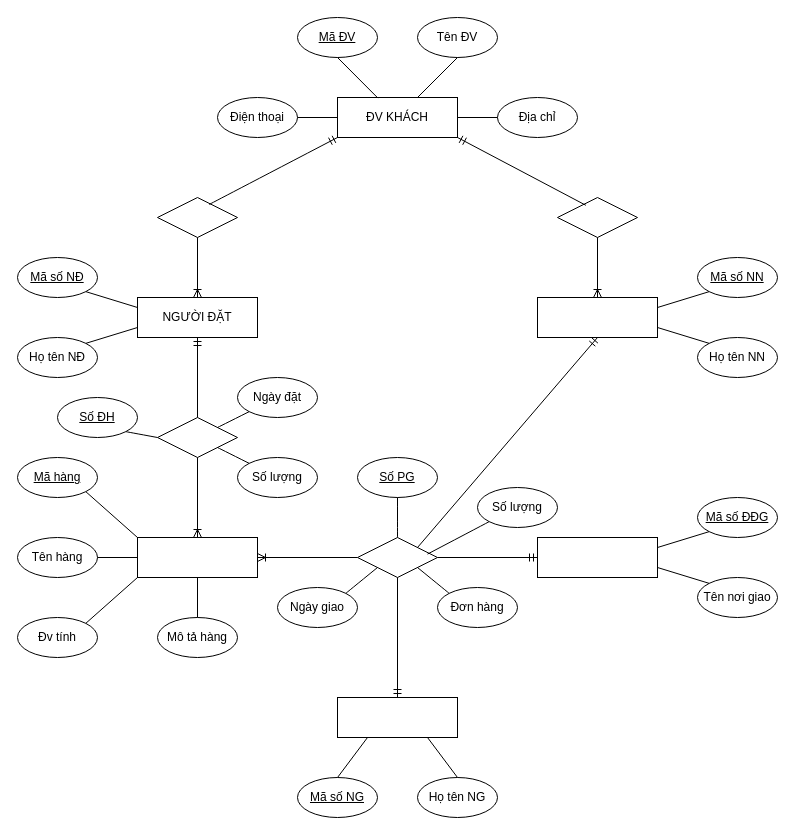
Image size: 795x835. Some labels were removed from this diagram. The centre of each missing label's shape, as x and y in pixels:
Giao: the point at 397,557
HÀNG: the point at 197,557
NGƯỜI GIAO: the point at 397,717
NGƯỜI NHẬN: the point at 597,317
NƠI GIAO: the point at 597,557
Thuộc tính 1: the point at 197,217
Thuộc tính 2: the point at 597,217
Đặt: the point at 197,437
